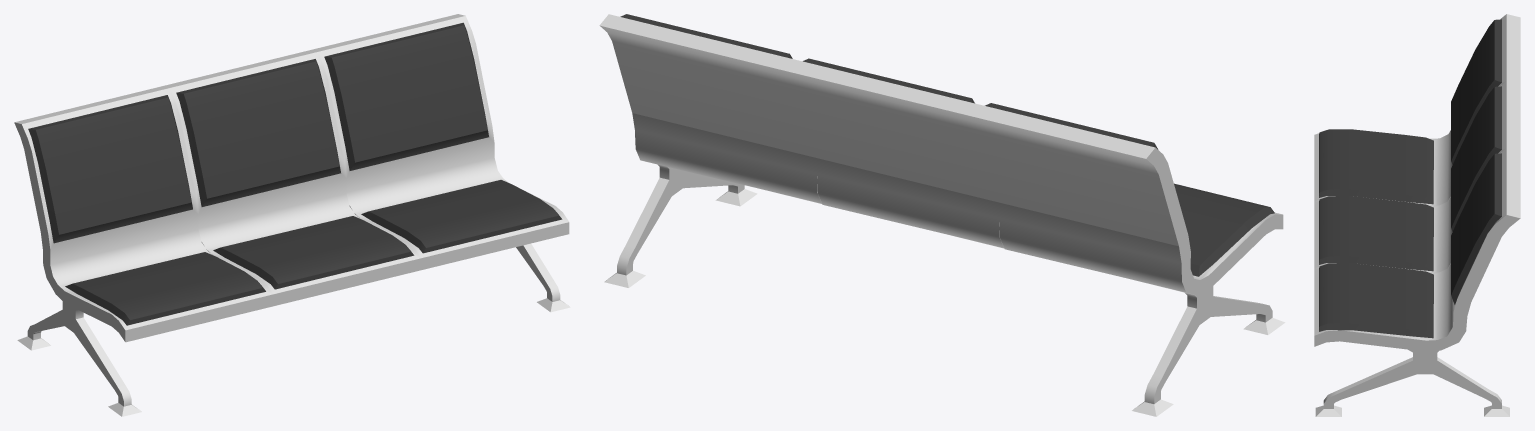
File: fbx_school_sofa.fbx
3 renders of one model, left to right at view 1: azimuth 30°, elevation 25°; view 2: azimuth 150°, elevation 25°; view 3: azimuth 270°, elevation 25°, orthographic. The views are drawn at different scales.
Parts seen in each view (by area): view 1: fbx_school_sofa; view 2: fbx_school_sofa; view 3: fbx_school_sofa.
Boxes of the visible parts, x1=… form: fbx_school_sofa: x1=14, y1=14, x2=570, y2=416; fbx_school_sofa: x1=599, y1=14, x2=1285, y2=416; fbx_school_sofa: x1=1314, y1=14, x2=1520, y2=416.
Bounding box in the file's own units: 3.81 × 1.76 × 1.64.
1 material, 1 textured.
